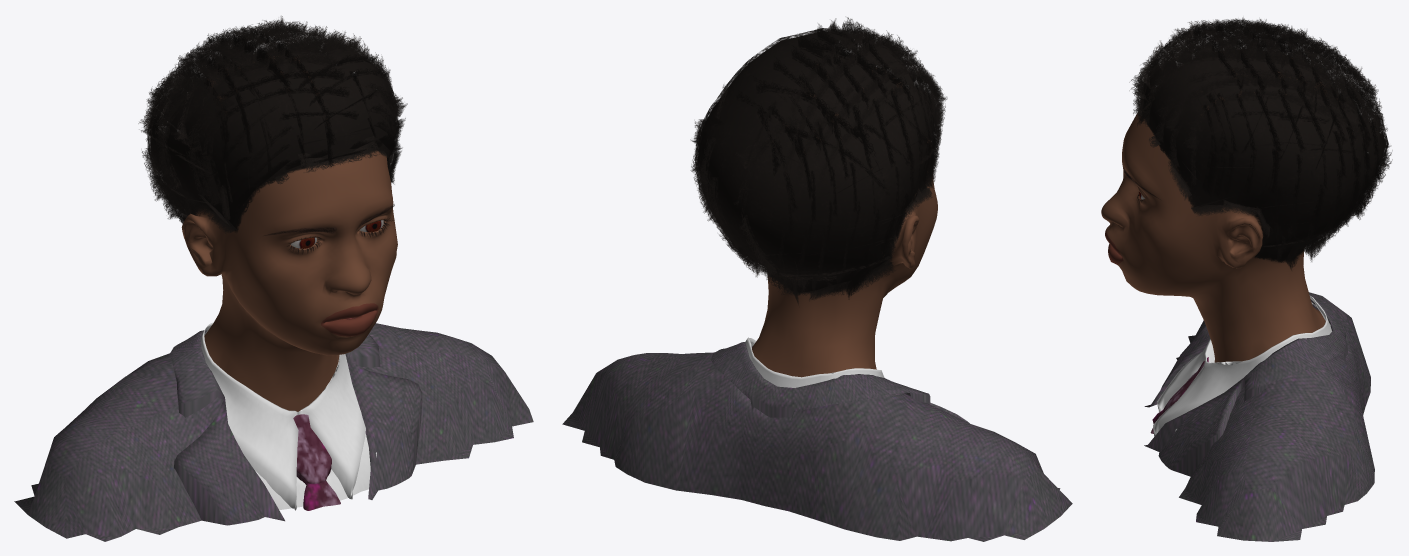
File: woman-01.glb
The picture shows the model from 3 angles, left to right: view 1: azimuth 30°, elevation 25°; view 2: azimuth 150°, elevation 25°; view 3: azimuth 270°, elevation 25°; orthographic projection. The views are drawn at different scales.
Visible parts, largest first — view 1: mpfb-face.toigo_female_double-breasted_suit, mpfb-face.afro01, mpfb-face; view 2: mpfb-face.toigo_female_double-breasted_suit, mpfb-face.afro01, mpfb-face; view 3: mpfb-face.afro01, mpfb-face.toigo_female_double-breasted_suit, mpfb-face.
Boxes of the visible parts, box(x1,y1,x2,y2) form: mpfb-face.toigo_female_double-breasted_suit: box(14, 322, 533, 541); mpfb-face.afro01: box(138, 16, 407, 233); mpfb-face: box(181, 56, 397, 411); mpfb-face.toigo_female_double-breasted_suit: box(562, 337, 1072, 541); mpfb-face.afro01: box(690, 17, 947, 304); mpfb-face: box(752, 68, 937, 377); mpfb-face.afro01: box(1129, 17, 1392, 270); mpfb-face.toigo_female_double-breasted_suit: box(1144, 292, 1374, 541); mpfb-face: box(1101, 72, 1325, 362).
Bounding box in the file's own units: 0.4169 × 0.3561 × 0.2359.
9 materials, 7 textured.
